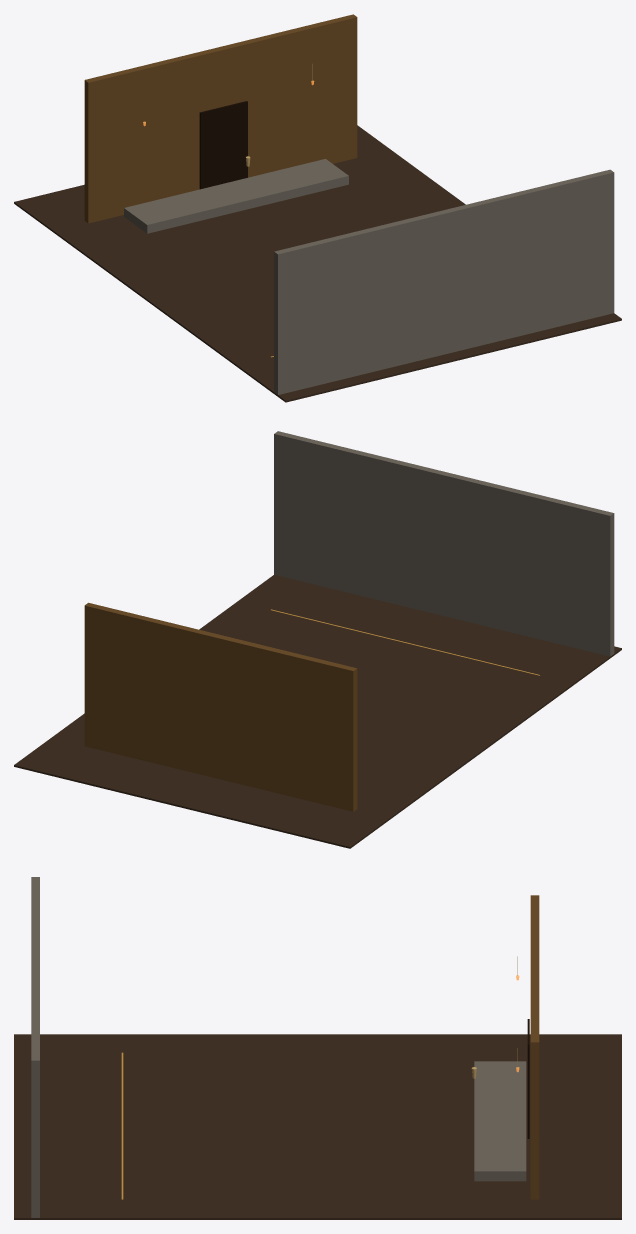
The model's file is sacrament-eucharist.glb.
3 renders of one model, top to bottom at view 1: azimuth 30°, elevation 25°; view 2: azimuth 150°, elevation 25°; view 3: azimuth 270°, elevation 25°, orthographic. The views are drawn at different scales.
Parts seen in each view (by area): view 1: west-wall, floor, iconostasis, solea, royal-doors-open; view 2: floor, west-wall, iconostasis; view 3: floor, solea, west-wall, iconostasis.
Part boxes in pixels (x1=…): west-wall: x1=274, y1=169, x2=614, y2=394; floor: x1=14, y1=125, x2=621, y2=402; iconostasis: x1=84, y1=14, x2=357, y2=223; solea: x1=124, y1=159, x2=348, y2=233; royal-doors-open: x1=199, y1=101, x2=247, y2=189; floor: x1=14, y1=574, x2=621, y2=848; west-wall: x1=274, y1=431, x2=614, y2=656; iconostasis: x1=84, y1=602, x2=357, y2=811; floor: x1=14, y1=1034, x2=621, y2=1219; solea: x1=474, y1=1061, x2=526, y2=1181; west-wall: x1=31, y1=877, x2=39, y2=1217; iconostasis: x1=530, y1=895, x2=539, y2=1199.
Size of the model in its own units: 10 by 4.05 by 14.
